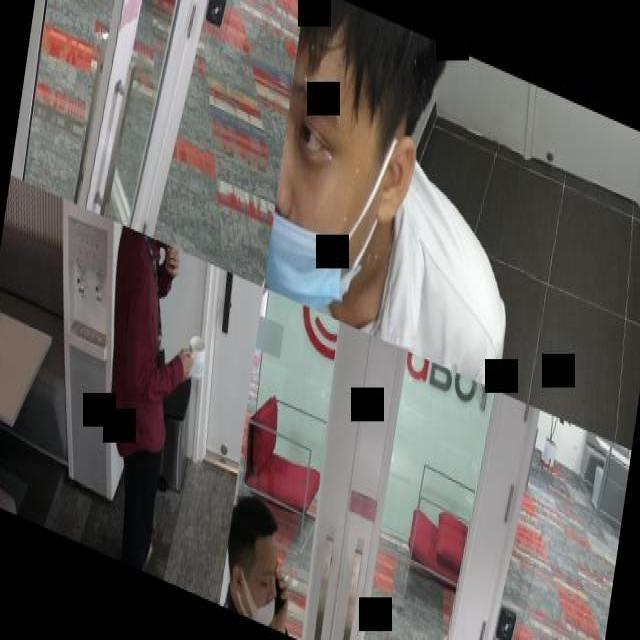hairnet: (266, 64, 364, 313), (249, 551, 279, 626)
